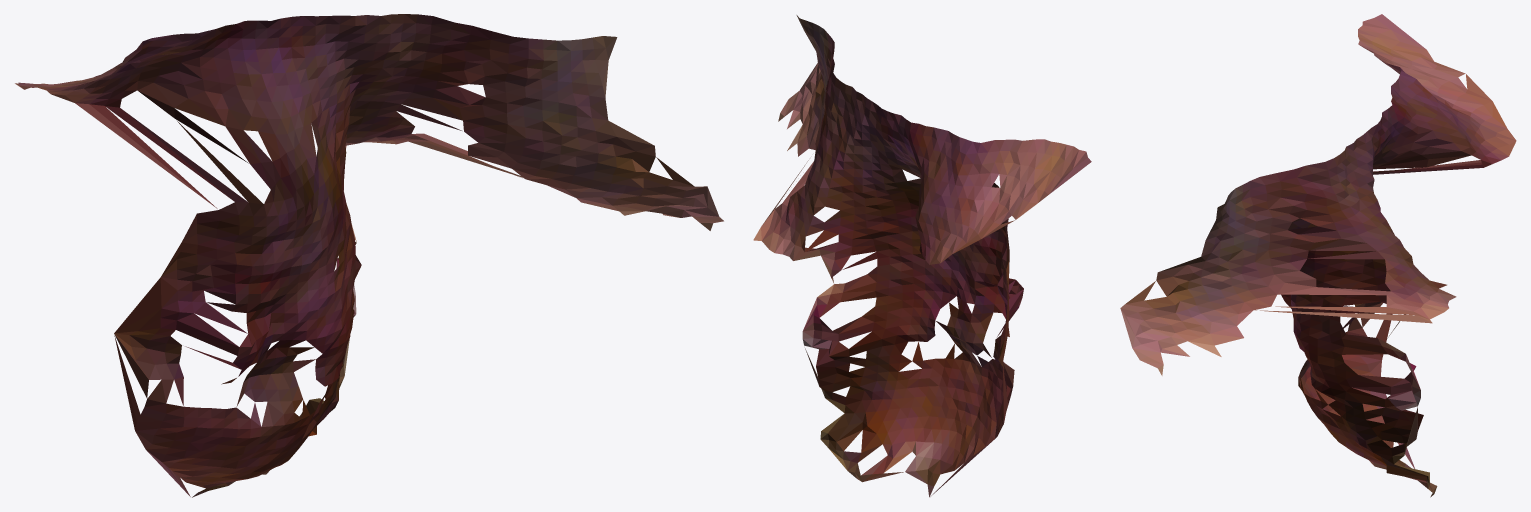
3 renders of one model, left to right at view 1: azimuth 30°, elevation 25°; view 2: azimuth 150°, elevation 25°; view 3: azimuth 270°, elevation 25°, orthographic. The views are drawn at different scales.
Parts seen in each view (by area): view 1: ofMesh; view 2: ofMesh; view 3: ofMesh.
Part boxes in pixels (left/top/right/bottom): ofMesh: left=15, top=14, right=723, bottom=497; ofMesh: left=753, top=15, right=1091, bottom=497; ofMesh: left=1120, top=14, right=1516, bottom=497.
Size of the model in its own units: 342 by 282 by 265.
1 material, 1 textured.
